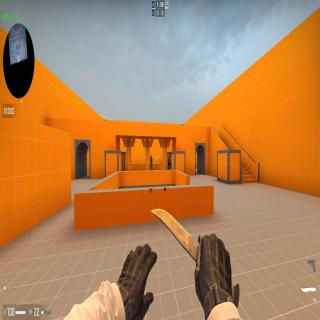CT-Body: (167, 154, 171, 170), (150, 155, 153, 171)
CT-Head: (168, 154, 170, 159), (150, 154, 152, 158)
